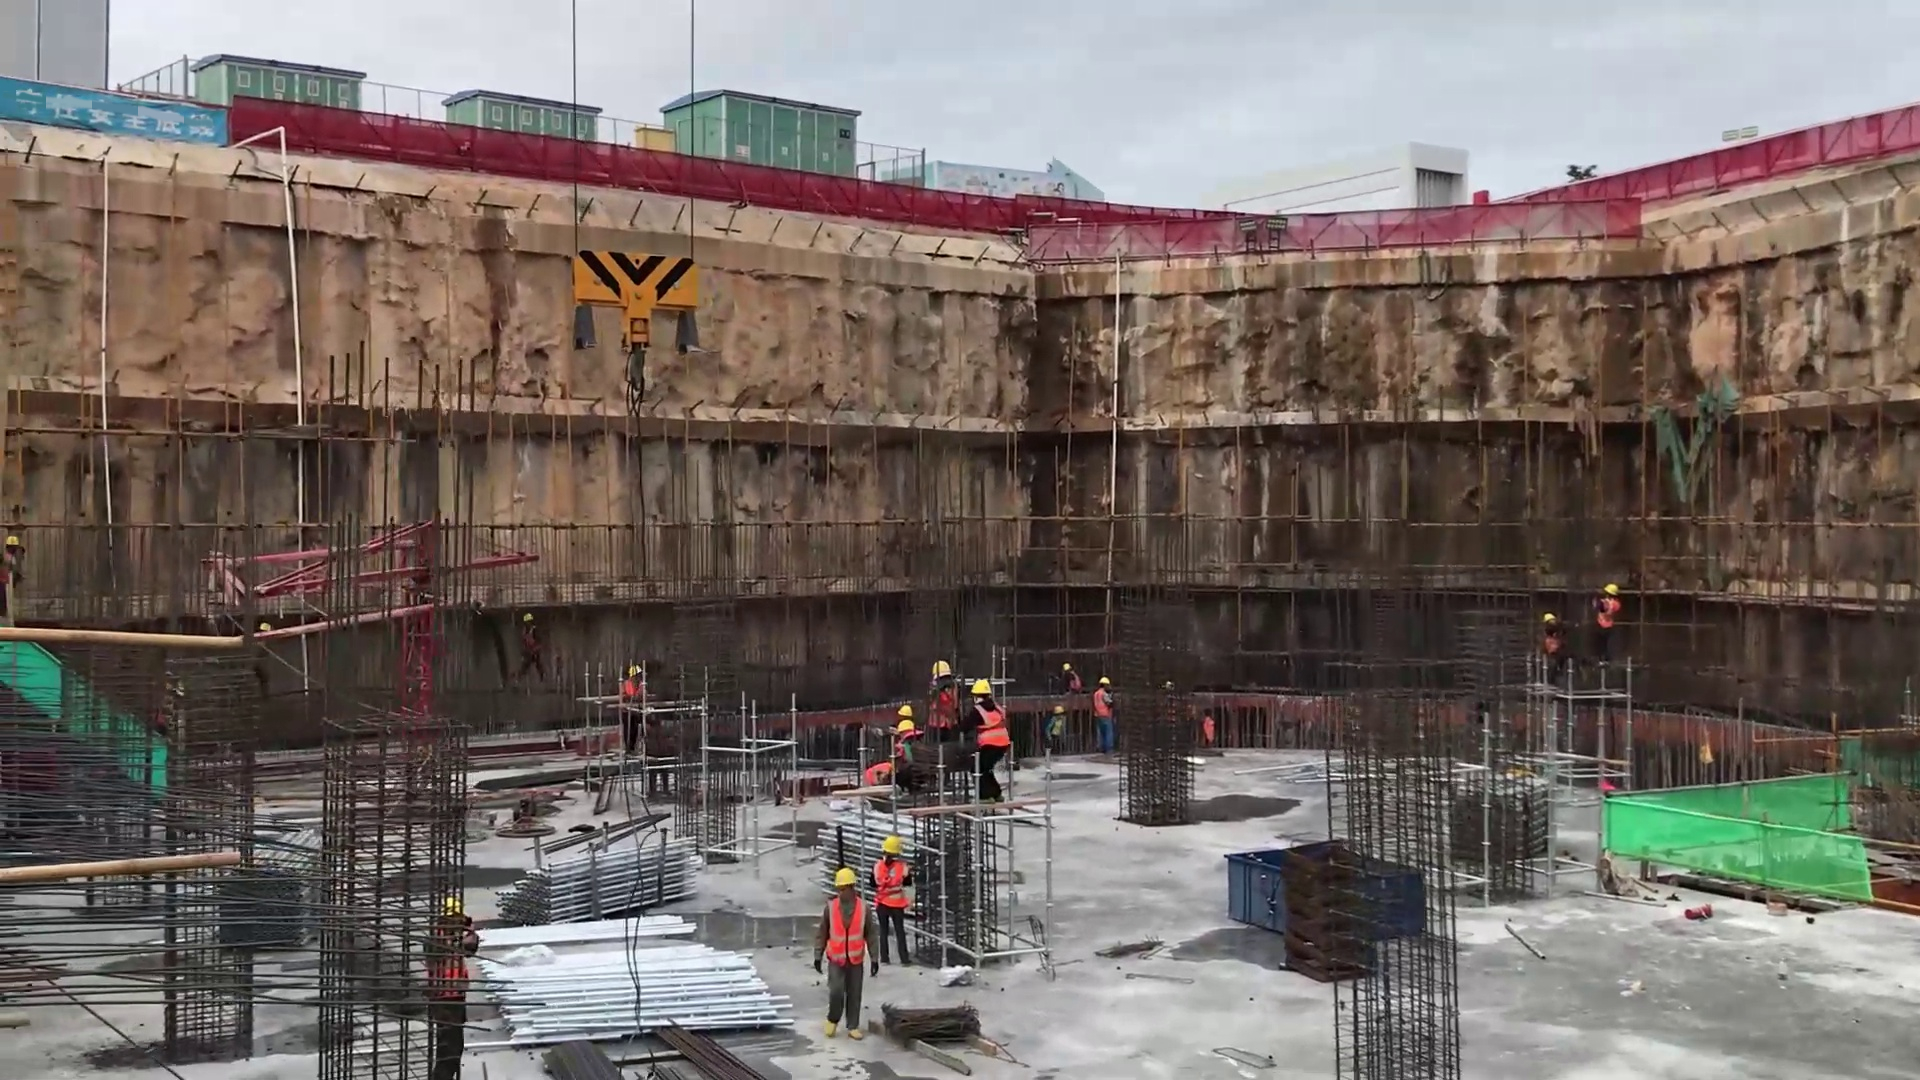helmet: (828, 856, 865, 896), (920, 649, 963, 679), (878, 827, 908, 864), (973, 669, 994, 692)
hook: (548, 229, 709, 357)
hopper: (1206, 822, 1432, 991)
person: (812, 858, 869, 1029), (873, 822, 916, 961), (1528, 591, 1588, 685), (971, 681, 1012, 779), (608, 657, 651, 745), (923, 653, 956, 720), (1596, 570, 1623, 649), (1086, 672, 1116, 739), (1046, 699, 1070, 746)
vest: (823, 896, 869, 973), (862, 850, 913, 914), (978, 695, 1024, 754), (1198, 706, 1231, 750), (620, 676, 662, 704), (1086, 683, 1120, 716), (1601, 591, 1628, 629), (1089, 685, 1119, 715), (862, 757, 889, 788)
